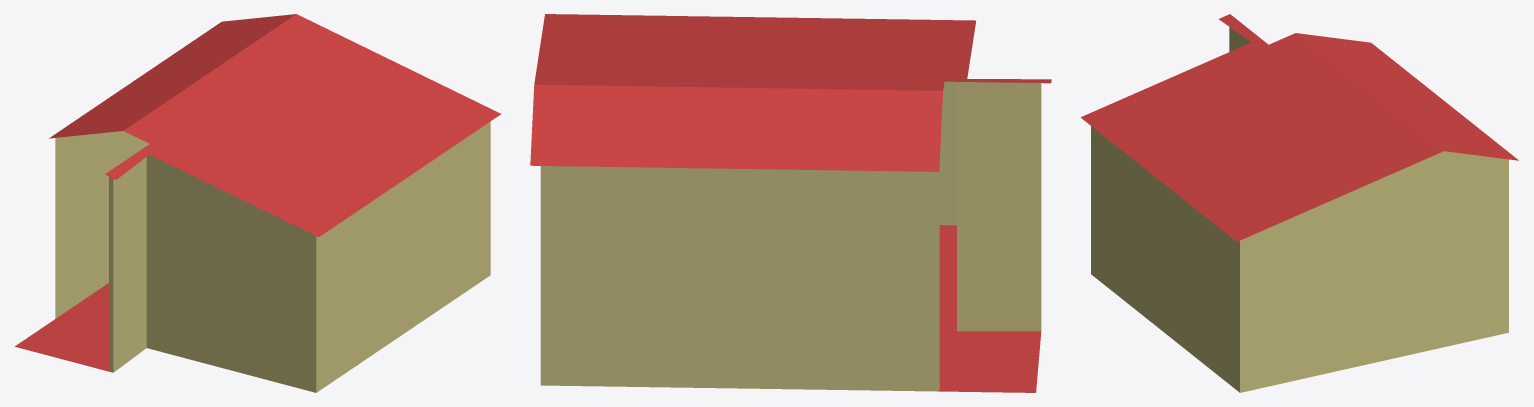
3 renders of one model, left to right at view 1: azimuth 30°, elevation 25°; view 2: azimuth 150°, elevation 25°; view 3: azimuth 270°, elevation 25°, orthographic. The views are drawn at different scales.
Bounding box in the file's own units: 15.88 × 14.17 × 7.11.
